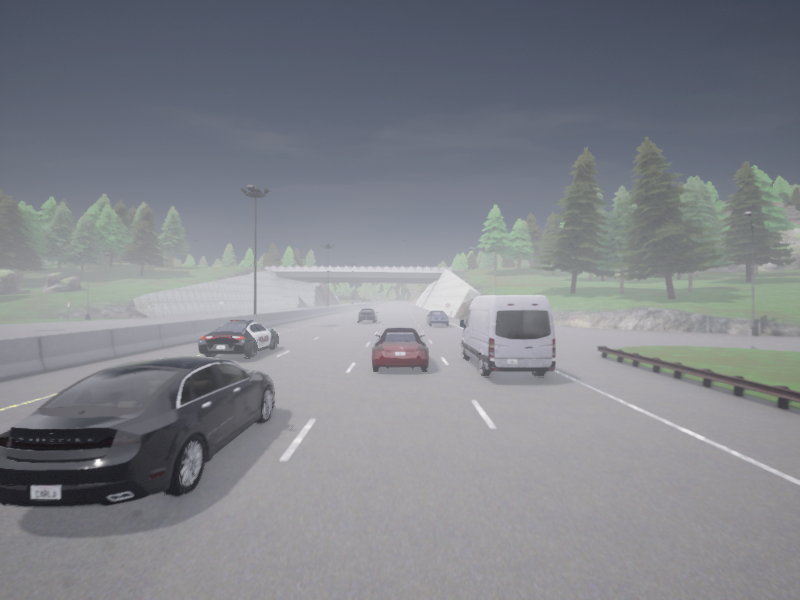vehicle: (0, 356, 274, 507), (460, 295, 555, 376), (198, 320, 278, 357), (372, 327, 428, 370), (426, 311, 448, 325), (358, 308, 378, 322)
